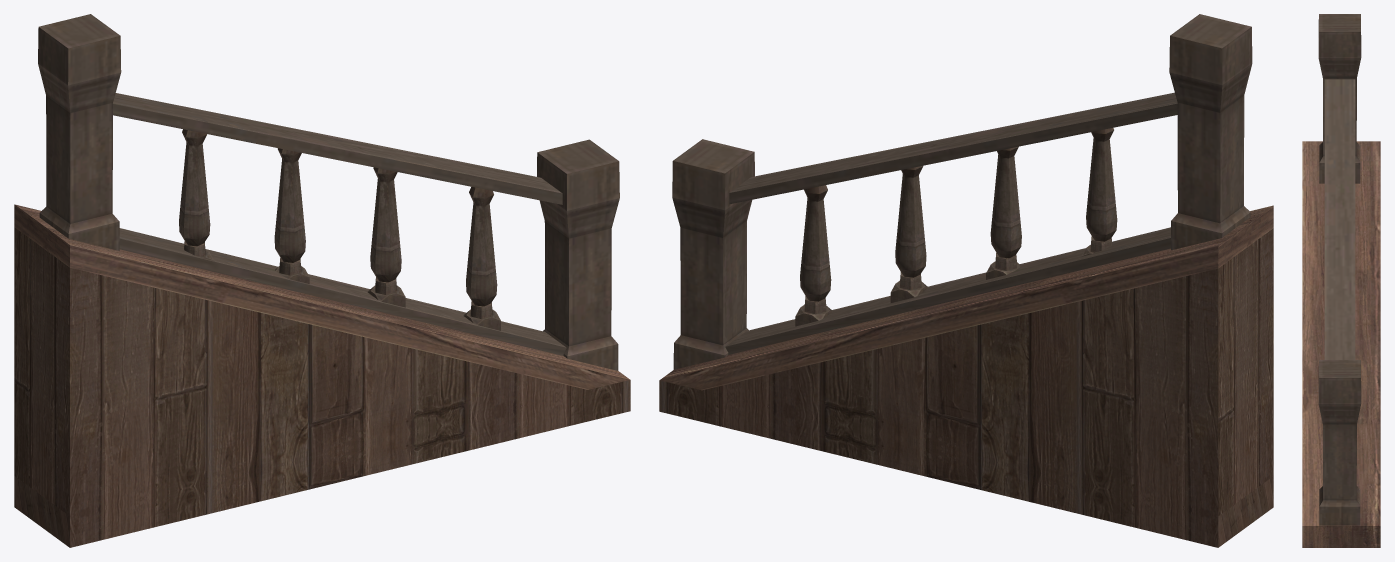
Rendered from bg_lut_lucastle_houseinstair02a_sm_msj.FBX.
The picture shows the model from 3 angles, left to right: view 1: azimuth 30°, elevation 25°; view 2: azimuth 150°, elevation 25°; view 3: azimuth 270°, elevation 25°; orthographic projection. The views are drawn at different scales.
Parts seen in each view (by area): view 1: bg_lut_lucastle_houseinstair02a_sm_msj; view 2: bg_lut_lucastle_houseinstair02a_sm_msj; view 3: bg_lut_lucastle_houseinstair02a_sm_msj.
Boxes of the visible parts, box(x1,y1,x2,y2) form: bg_lut_lucastle_houseinstair02a_sm_msj: box(14, 14, 630, 547); bg_lut_lucastle_houseinstair02a_sm_msj: box(659, 14, 1273, 547); bg_lut_lucastle_houseinstair02a_sm_msj: box(1302, 14, 1380, 547).
Size of the model in its own units: 187 by 155 by 32.
